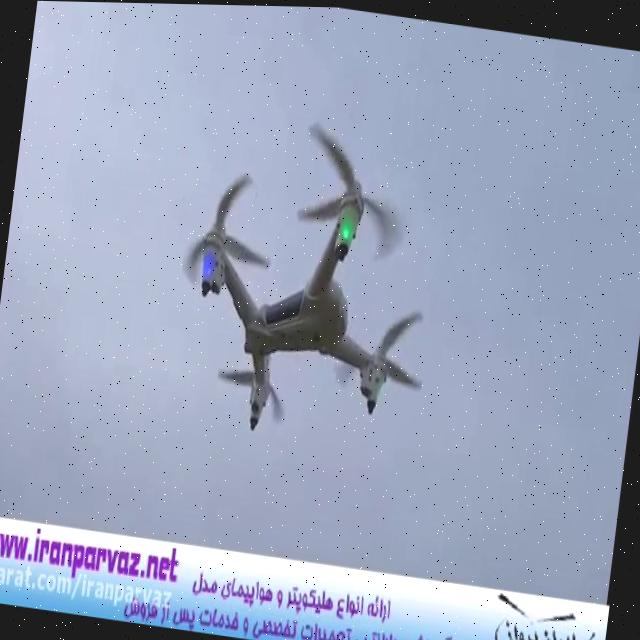drone: (157, 96, 461, 465)
